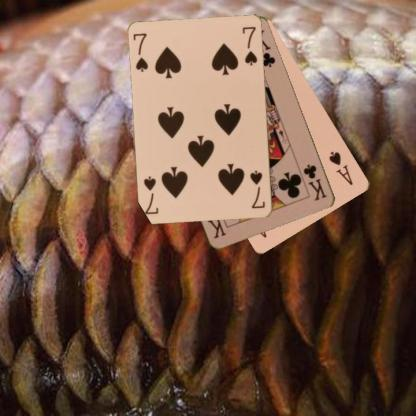7s: (131, 30, 150, 74), (248, 168, 266, 210)
As: (326, 148, 355, 186)
Kc: (301, 162, 328, 202)
